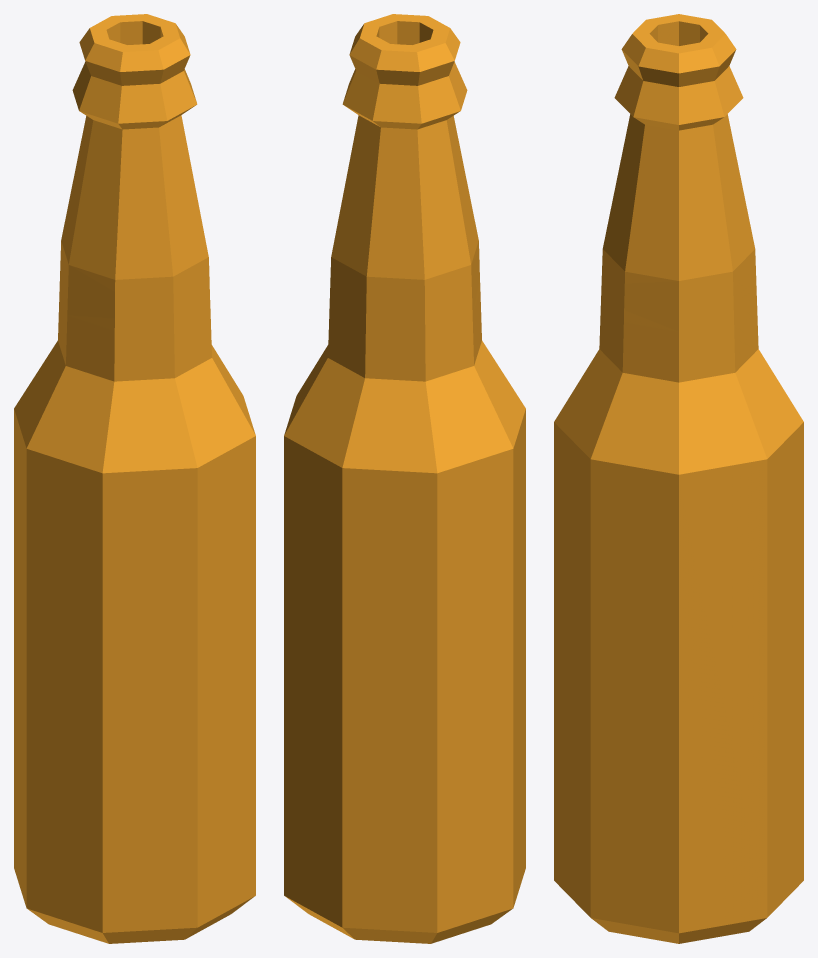
The model's file is SM_Bottle_Beer_Empty_4july_B.fbx.
The picture shows the model from 3 angles, left to right: view 1: azimuth 30°, elevation 25°; view 2: azimuth 150°, elevation 25°; view 3: azimuth 270°, elevation 25°; orthographic projection.
Visible parts, largest first — view 1: bottle-beer-empty-4july-b; view 2: bottle-beer-empty-4july-b; view 3: bottle-beer-empty-4july-b.
Part boxes in pixels (x1,y1,x2,y2): bottle-beer-empty-4july-b: (14, 14, 255, 943); bottle-beer-empty-4july-b: (284, 14, 525, 943); bottle-beer-empty-4july-b: (554, 14, 803, 943).
Bounding box in the file's own units: 0.06 × 0.23 × 0.06.
